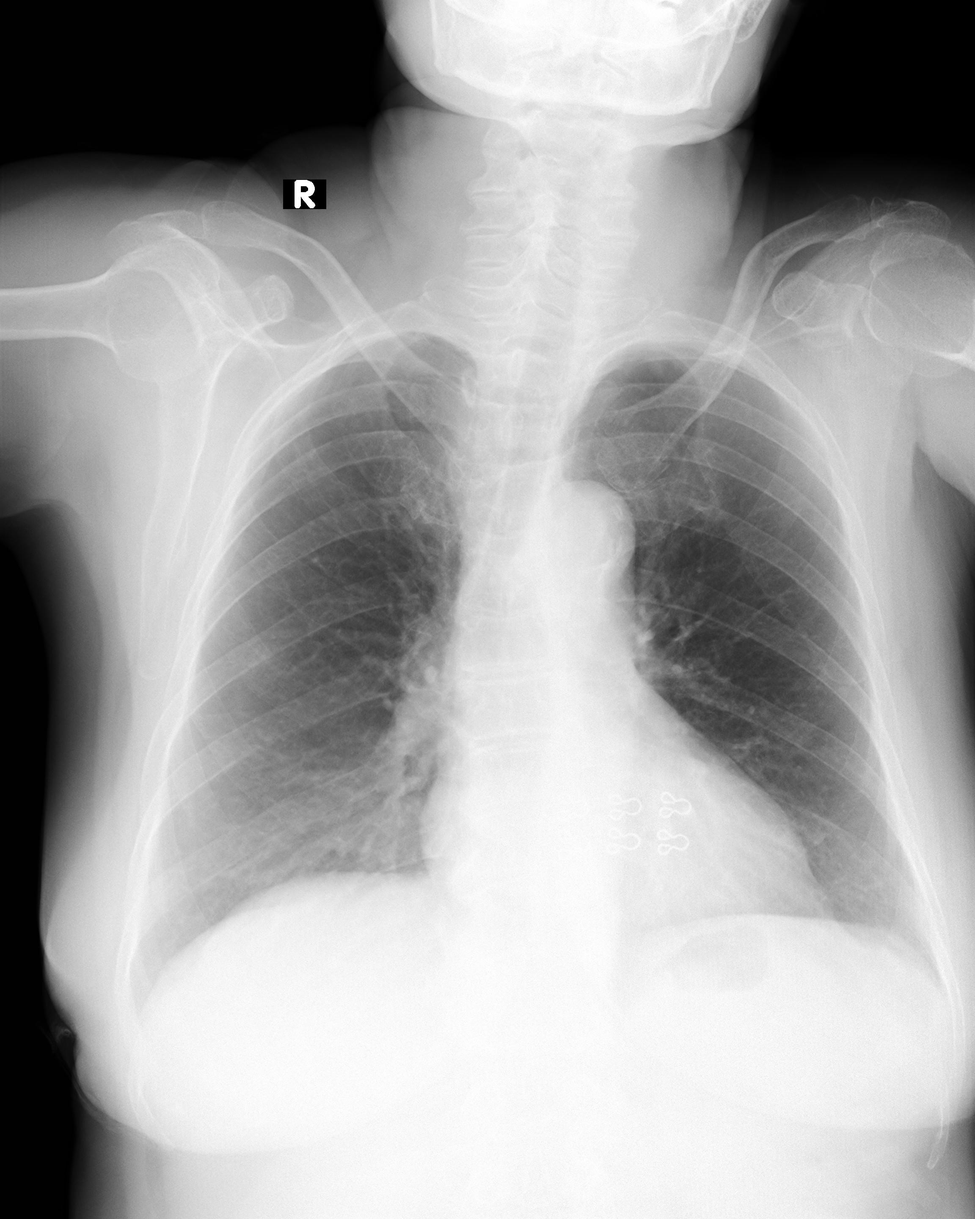Aortic enlargement: (526, 475, 636, 582)
Cardiomegaly: (419, 795, 830, 938)
Pleural thickening: (600, 341, 695, 370)
